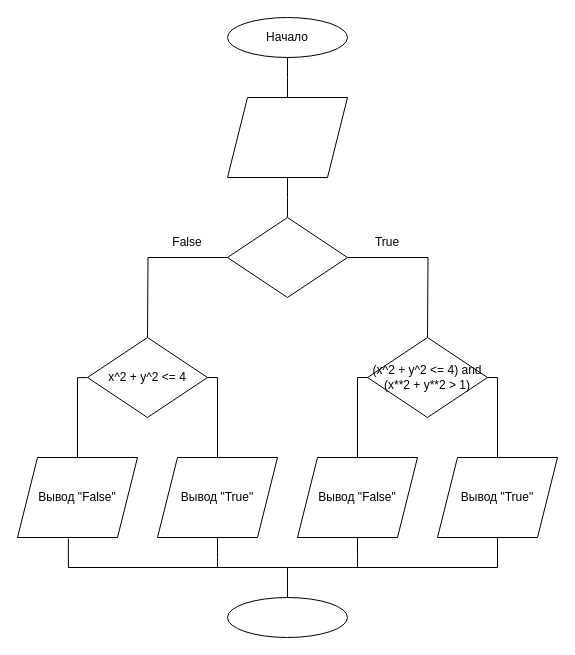
The diagram is 575 pixels wide and 655 high, and some of its shapes have lost their labels. The box of each missing label's shape, as (x1, y1, x2, y2) in pixels:
x>=0: (226, 216, 348, 298)
Ввод x,y: (226, 96, 348, 178)
Конец: (226, 596, 348, 638)
